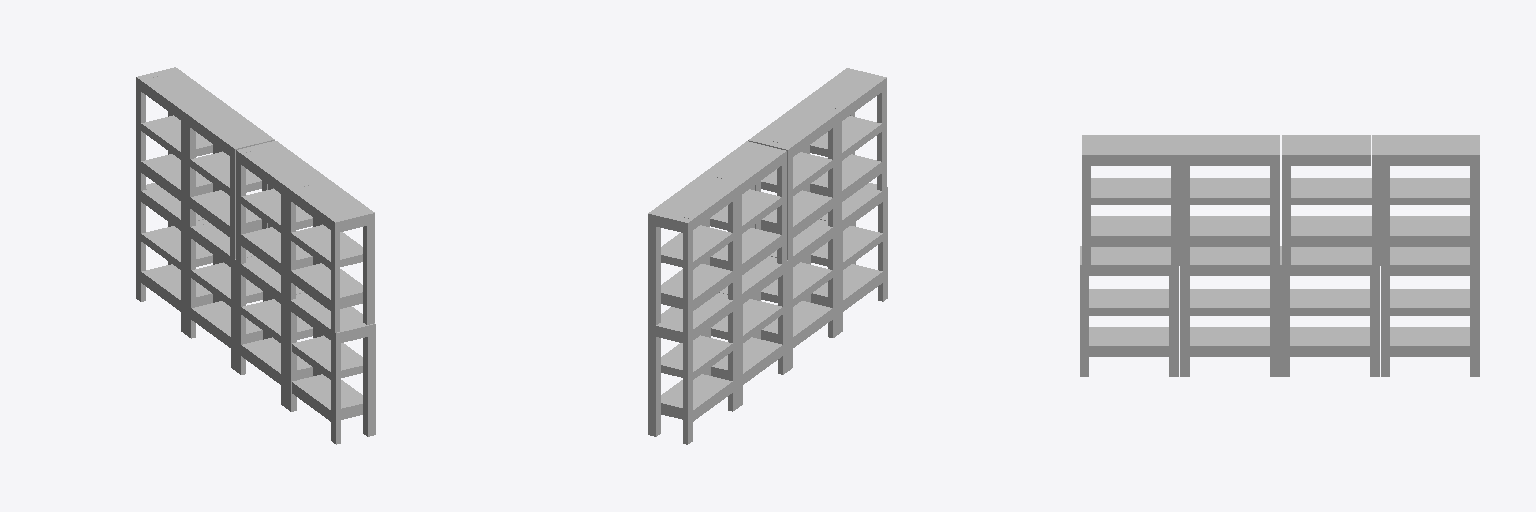
File: shelf12.obj
The picture shows the model from 3 angles: view 1: azimuth 30°, elevation 25°; view 2: azimuth 150°, elevation 25°; view 3: azimuth 270°, elevation 25°; orthographic projection.
Parts seen in each view (by area): view 1: Cube.008, Cube.004, Cube.006, Cube.007, Cube.005, Cube.001, Cube.002, Cube.003; view 2: Cube.005, Cube.001, Cube.008, Cube.007, Cube.006, Cube.004, Cube.002, Cube.003; view 3: Cube.007, Cube.006, Cube.005, Cube.008, Cube.002, Cube.003, Cube.004, Cube.001.
Part boxes in pixels (bbox=[...]): Cube.008: bbox=[286, 177, 374, 332]; Cube.004: bbox=[286, 293, 375, 444]; Cube.006: bbox=[185, 103, 274, 259]; Cube.007: bbox=[236, 141, 324, 296]; Cube.005: bbox=[136, 67, 223, 222]; Cube.001: bbox=[136, 183, 217, 334]; Cube.002: bbox=[186, 219, 267, 370]; Cube.003: bbox=[236, 256, 317, 407]; Cube.005: bbox=[648, 178, 737, 333]; Cube.001: bbox=[648, 293, 737, 444]; Cube.008: bbox=[798, 68, 886, 223]; Cube.007: bbox=[748, 104, 836, 259]; Cube.006: bbox=[697, 141, 786, 296]; Cube.004: bbox=[806, 183, 887, 334]; Cube.002: bbox=[706, 256, 787, 407]; Cube.003: bbox=[756, 219, 837, 370]; Cube.007: bbox=[1180, 135, 1279, 265]; Cube.006: bbox=[1282, 135, 1381, 265]; Cube.005: bbox=[1381, 135, 1479, 265]; Cube.008: bbox=[1082, 135, 1180, 265]; Cube.002: bbox=[1280, 246, 1379, 376]; Cube.003: bbox=[1180, 247, 1279, 376]; Cube.004: bbox=[1080, 246, 1178, 376]; Cube.001: bbox=[1381, 247, 1479, 376].
Size of the model in its own units: 2.48 by 13.17 by 21.53.